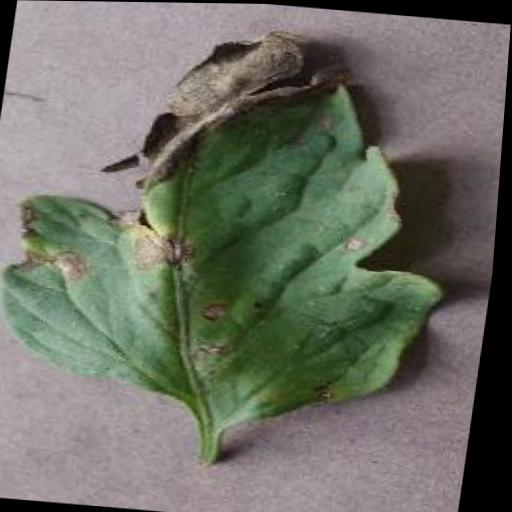Early Blight: (0, 21, 481, 427)
